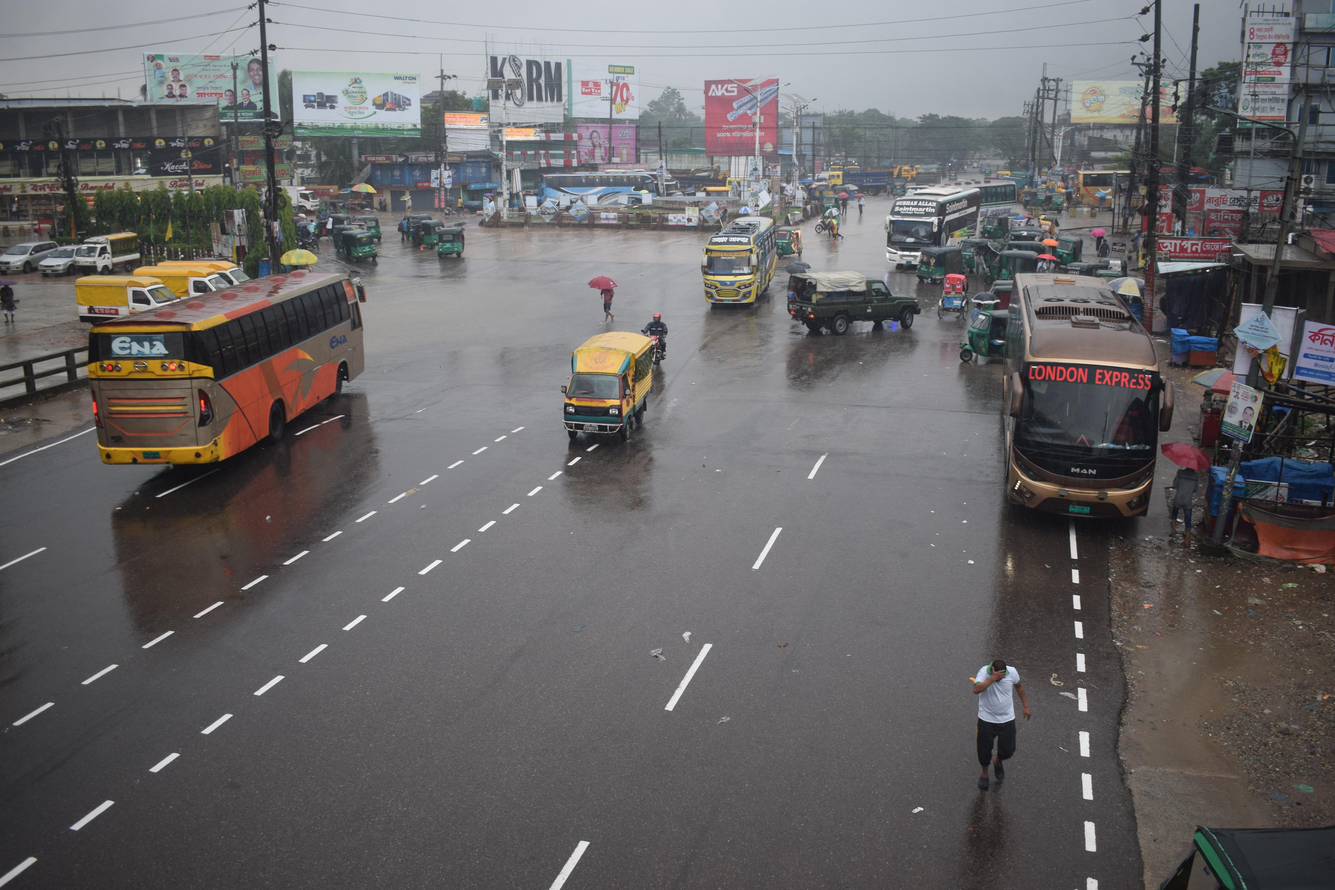Bus: (958, 236, 1204, 578), (56, 253, 412, 475), (688, 182, 794, 335), (520, 145, 674, 232), (878, 177, 987, 278), (1061, 149, 1153, 229)
Car: (534, 318, 682, 477), (67, 218, 150, 277), (0, 232, 68, 288), (32, 232, 85, 292)
Truck: (766, 261, 937, 357)
